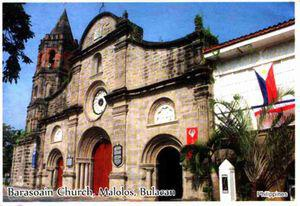barasoain_church_malolos_bulacan: (10, 3, 215, 189)
